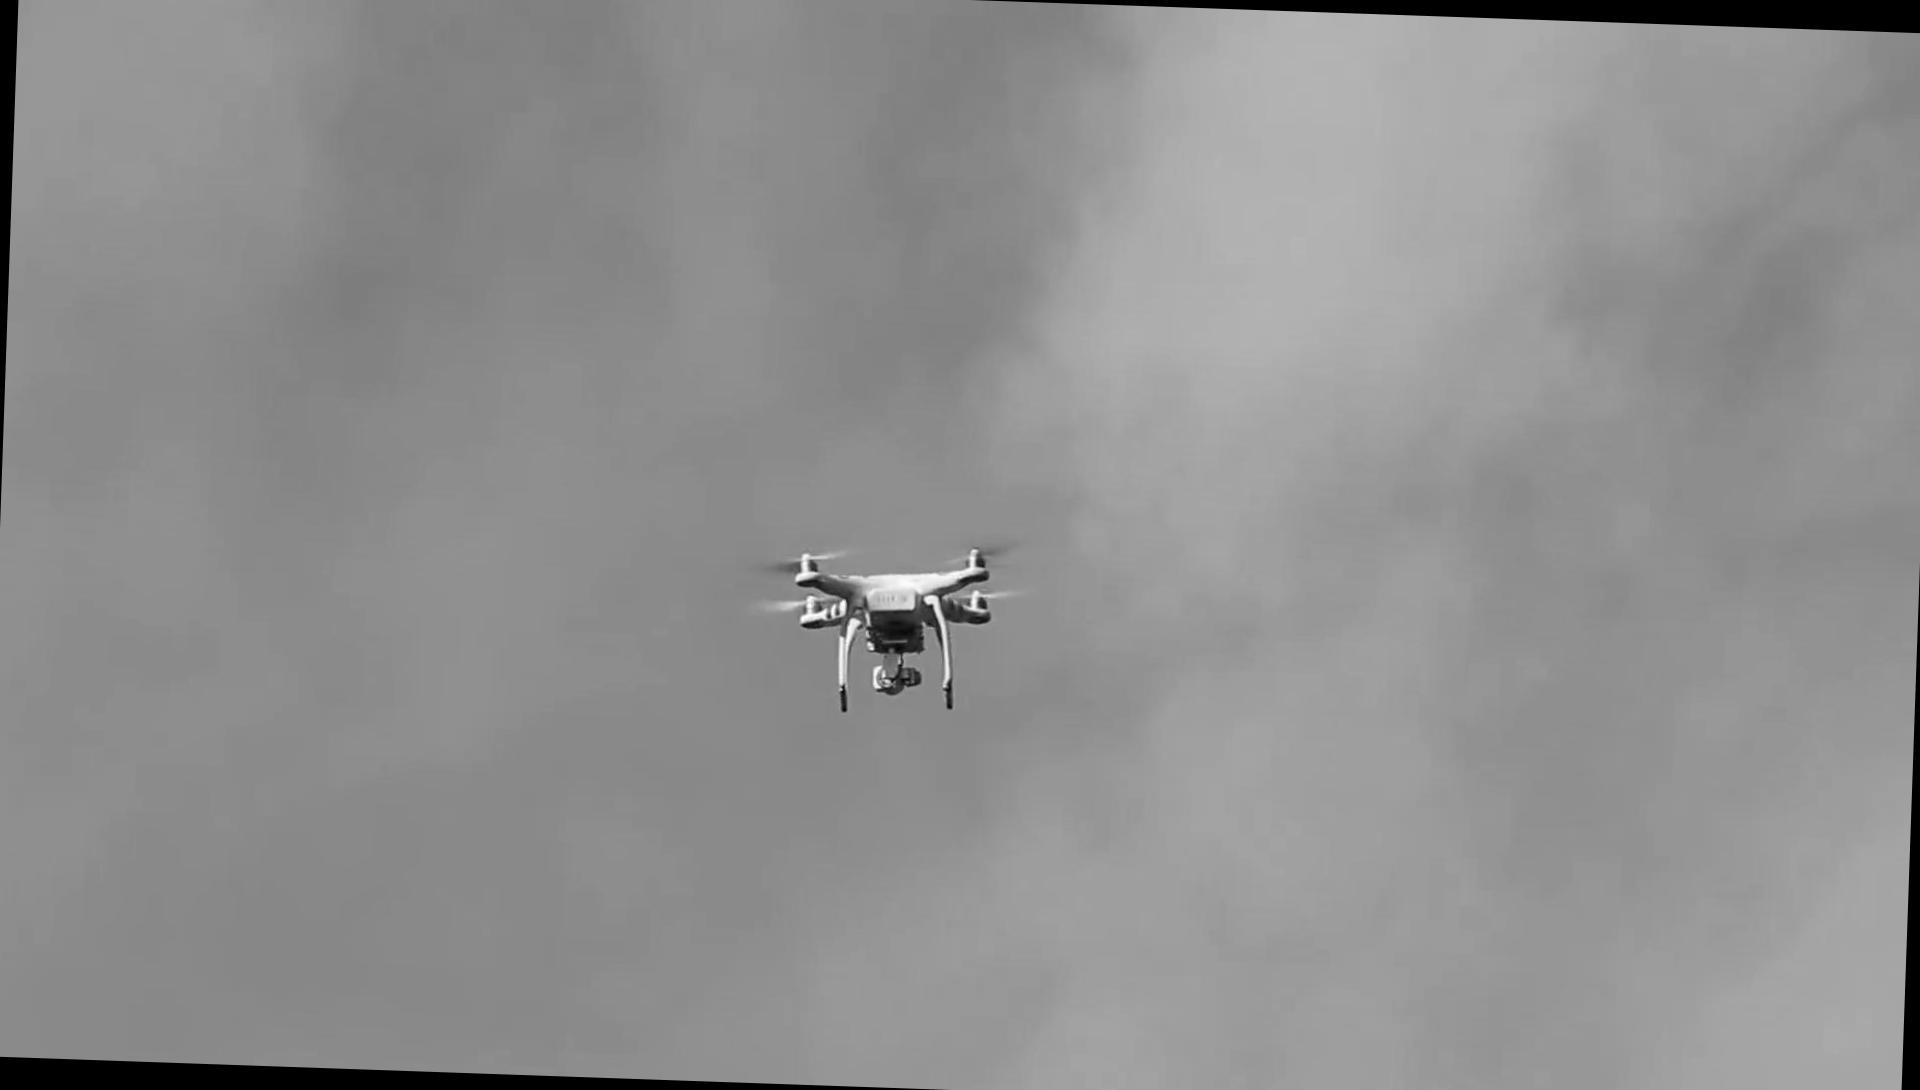drone: (773, 530, 1014, 713)
